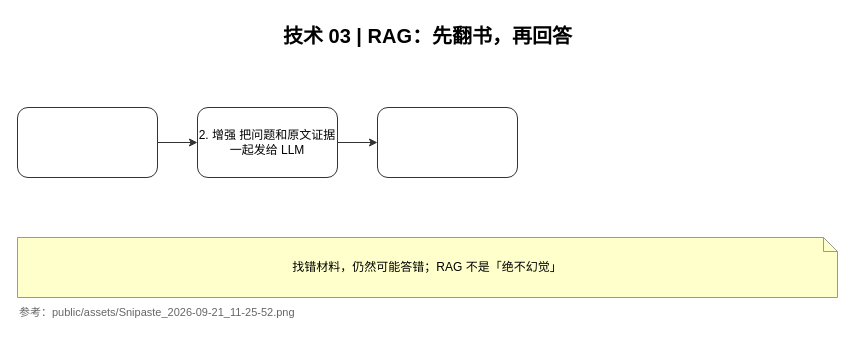
Some shapes in this 855 by 338 pixel diagram are drawn without their labels. Here are the shapes that lost their labels. From the top down, the centre of each, then its label:
At (87,142): "1. 检索 用户提问，系统到知识库找资料".
At (447,142): "3. 生成 模型依据证据组织答案并给出引用".
